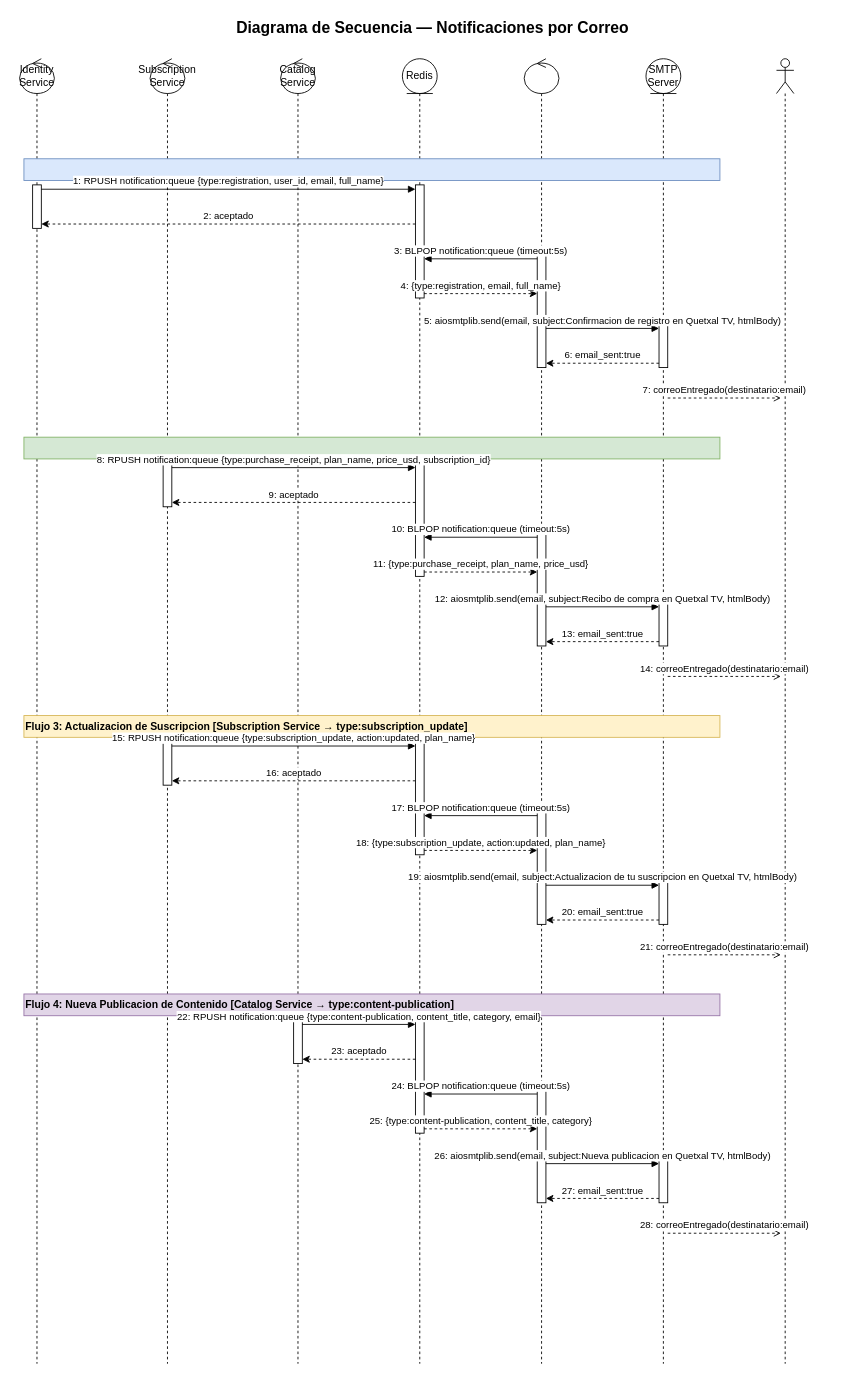
Image size: 865x1379. Some labels were removed from this diagram. Each missing label, with the box of its shape:
Flujo 1: Registro de Usuario [Identity Service → type:registration]: (23, 158, 720, 181)
Flujo 2: Recibo de Compra [Subscription Service → type:purchase_receipt]: (23, 436, 720, 459)
Notification Worker: (523, 58, 559, 1364)
Usuario: (776, 58, 794, 1364)
